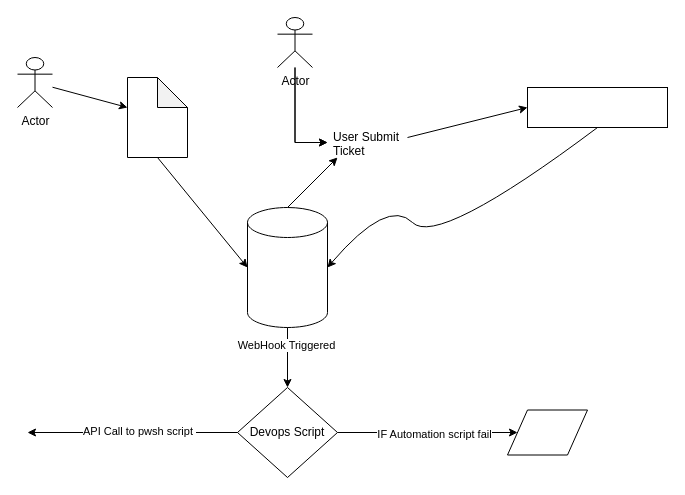
Image size: 685x495. Some labels were removed from this diagram. Each missing label, with the box of its shape:
END: (506, 409, 588, 455)
Envo8 Register Ticket And Assign ID: (526, 86, 668, 128)
